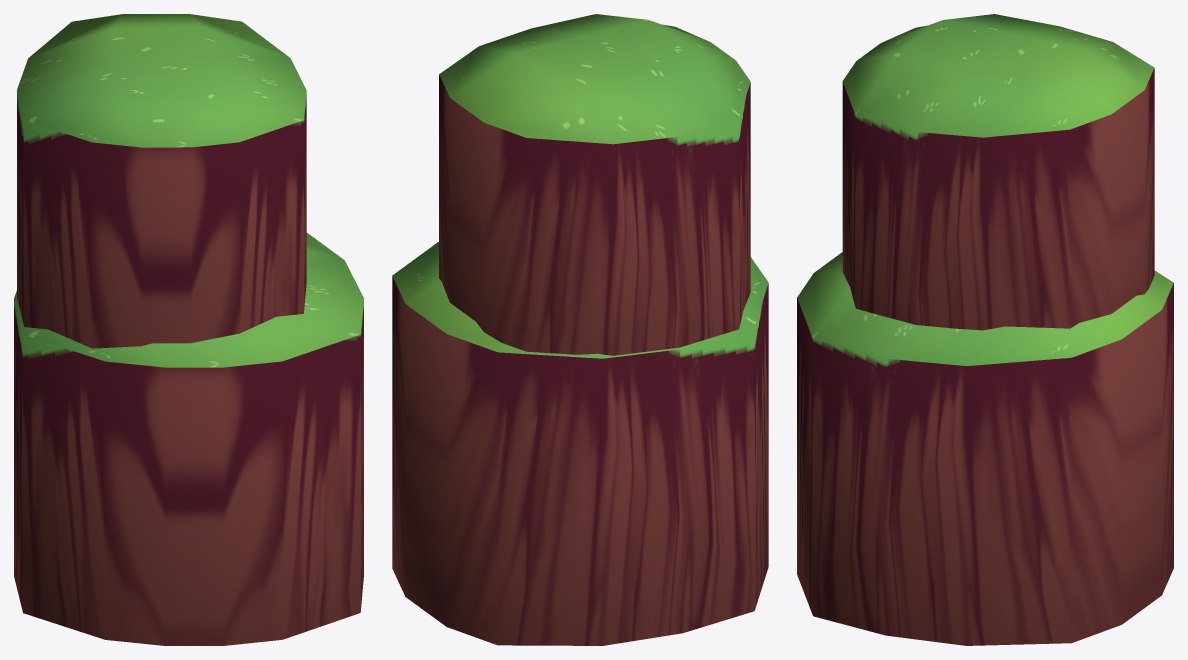
The model's file is island_11.gltf.
3 renders of one model, left to right at view 1: azimuth 30°, elevation 25°; view 2: azimuth 150°, elevation 25°; view 3: azimuth 270°, elevation 25°, orthographic. The views are drawn at different scales.
Visible parts, largest first — view 1: Island11Mesh -col; view 2: Island11Mesh -col; view 3: Island11Mesh -col.
Boxes of the visible parts, left/top/right/bottom form: Island11Mesh -col: left=14, top=14, right=363, bottom=645; Island11Mesh -col: left=392, top=14, right=768, bottom=645; Island11Mesh -col: left=797, top=14, right=1173, bottom=645.
Size of the model in its own units: 1.47 by 2.3 by 1.53.
Materials: 1 (1 with a texture image).
